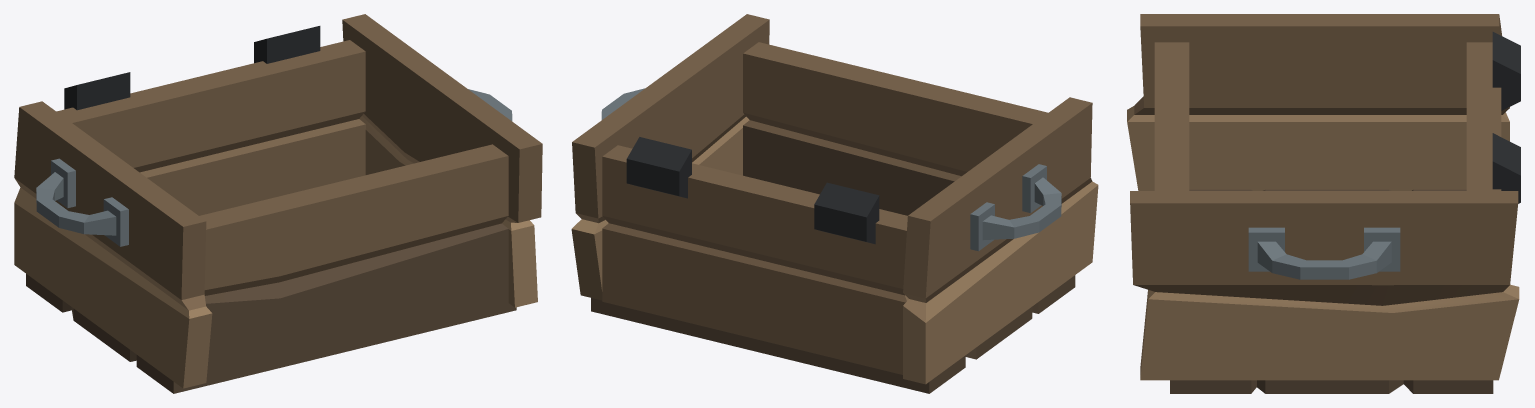
The model's file is SM_Prop_Chest_Wood_01.glb.
3 renders of one model, left to right at view 1: azimuth 30°, elevation 25°; view 2: azimuth 150°, elevation 25°; view 3: azimuth 270°, elevation 25°, orthographic. The views are drawn at different scales.
Parts seen in each view (by area): view 1: SM_Prop_Chest_Wood_01; view 2: SM_Prop_Chest_Wood_01; view 3: SM_Prop_Chest_Wood_01.
Part boxes in pixels (x1,y1,x2,y2): SM_Prop_Chest_Wood_01: (14,14,542,393); SM_Prop_Chest_Wood_01: (571,14,1098,393); SM_Prop_Chest_Wood_01: (1127,14,1520,393).
Bounding box in the file's own units: 0.0116 × 0.00469 × 0.0081.
1 material, 1 textured.
